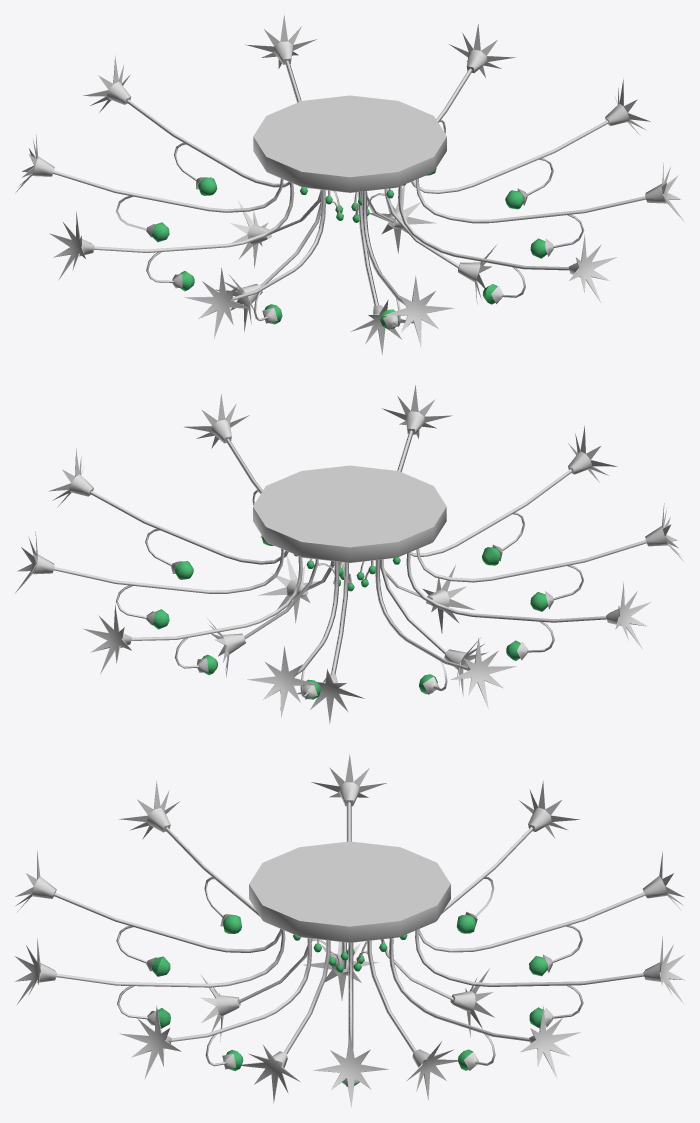
File: LightTopDesign03.FBX
3 views of the same model, one above another, from view 1: azimuth 30°, elevation 25°; view 2: azimuth 150°, elevation 25°; view 3: azimuth 270°, elevation 25° (orthographic). The views are drawn at different scales.
Visible parts, largest first — view 1: LightTopDesign03; view 2: LightTopDesign03; view 3: LightTopDesign03.
Part boxes in pixels (x1,y1,x2,y2): LightTopDesign03: (15,14,684,354); LightTopDesign03: (15,385,684,724); LightTopDesign03: (15,754,685,1107).
Size of the model in its own units: 120 by 115 by 32.69.
